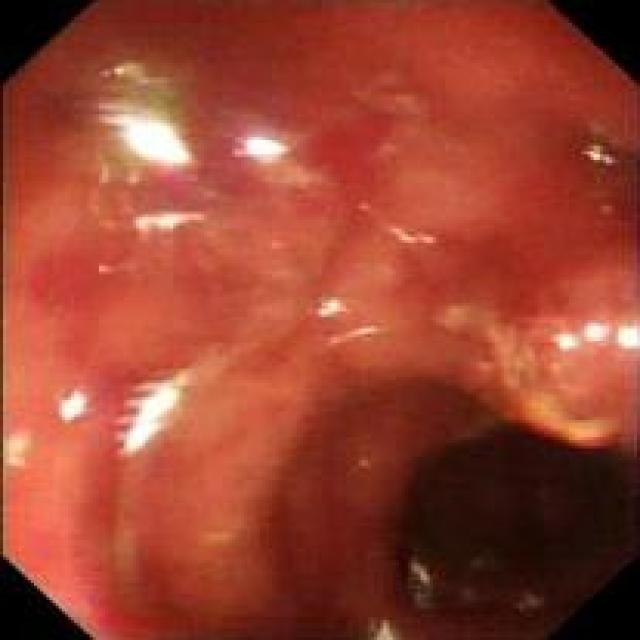color misalignment: (86, 60, 282, 198), (112, 369, 190, 455), (528, 423, 616, 450), (2, 428, 34, 469)
contrast: (390, 423, 637, 607)
specularity: (123, 374, 175, 447), (127, 117, 185, 164), (133, 209, 203, 236), (58, 388, 88, 423), (248, 136, 291, 160), (586, 141, 616, 169), (581, 319, 610, 345), (618, 324, 638, 350), (553, 329, 573, 355), (314, 298, 340, 317), (355, 323, 381, 336)
